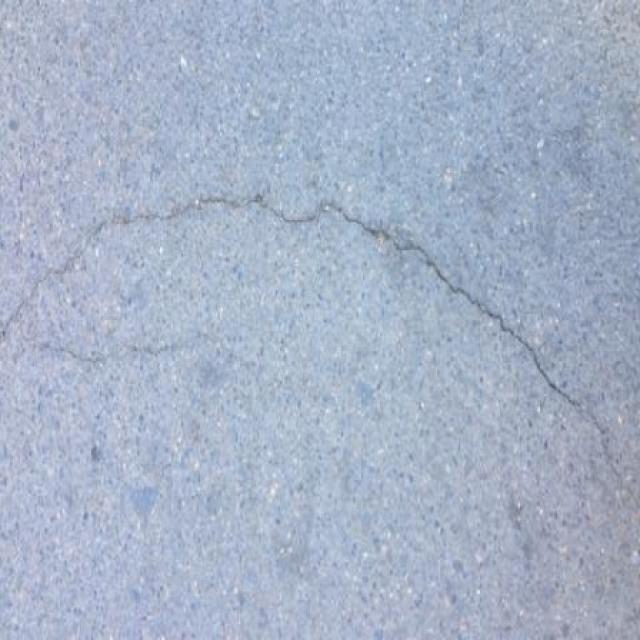Alligator Crack: (0, 190, 640, 499)
